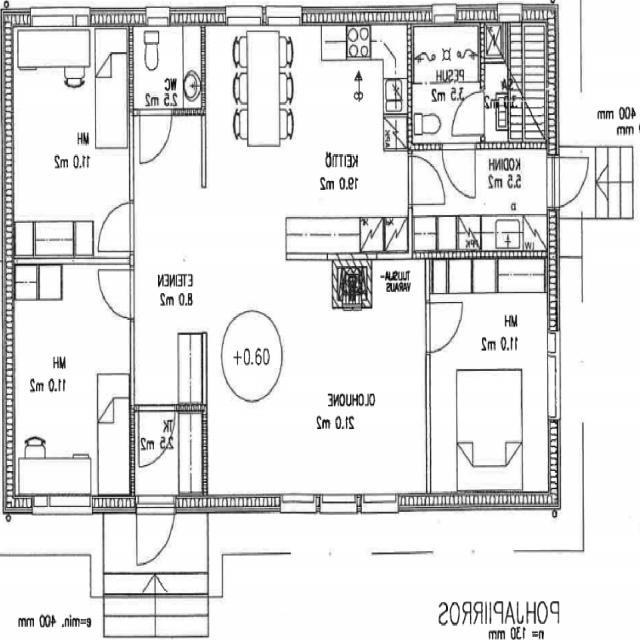door: (136, 494, 174, 568), (138, 402, 176, 465), (548, 158, 593, 208), (426, 302, 464, 353), (96, 268, 134, 318), (408, 155, 446, 204), (96, 202, 134, 250), (140, 108, 172, 164), (443, 141, 474, 196), (452, 92, 484, 134)
